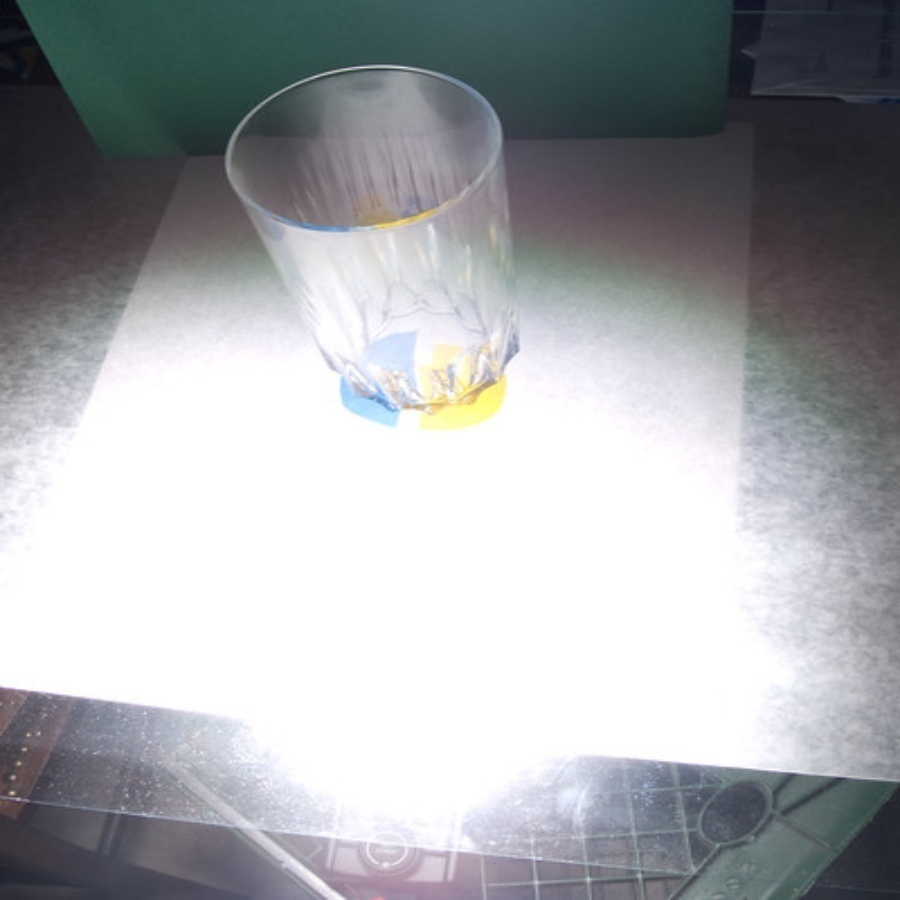whiskey: (213, 58, 528, 415)
